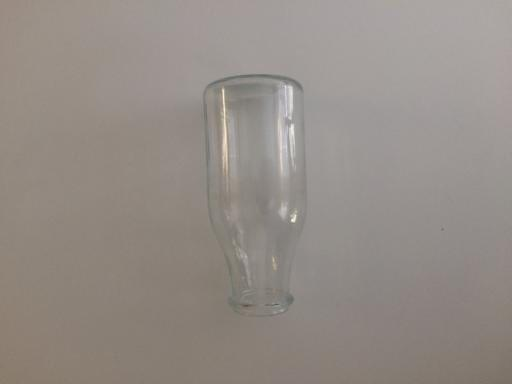botolkaca: (203, 74, 305, 314)
